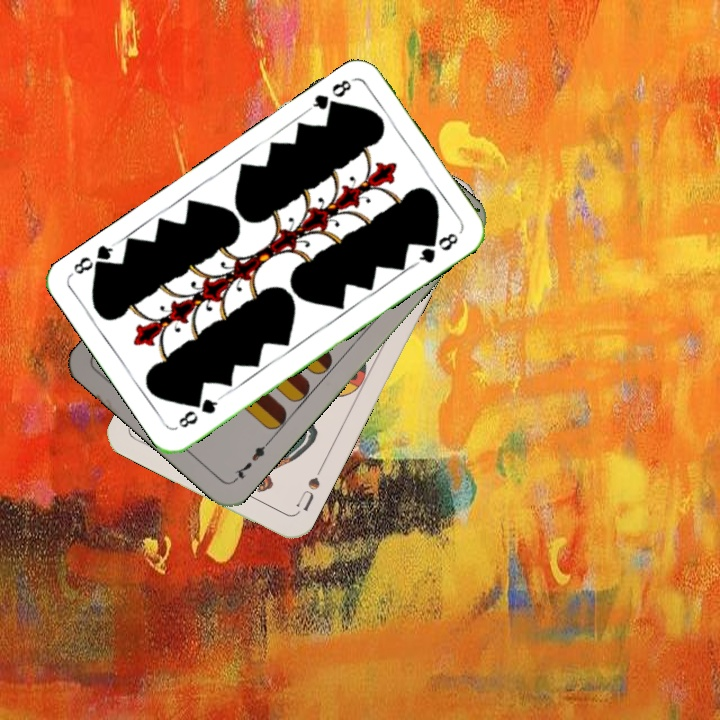E7: (229, 436, 273, 485)
G8: (305, 75, 354, 117), (174, 392, 224, 431)
SU: (292, 462, 326, 514)
